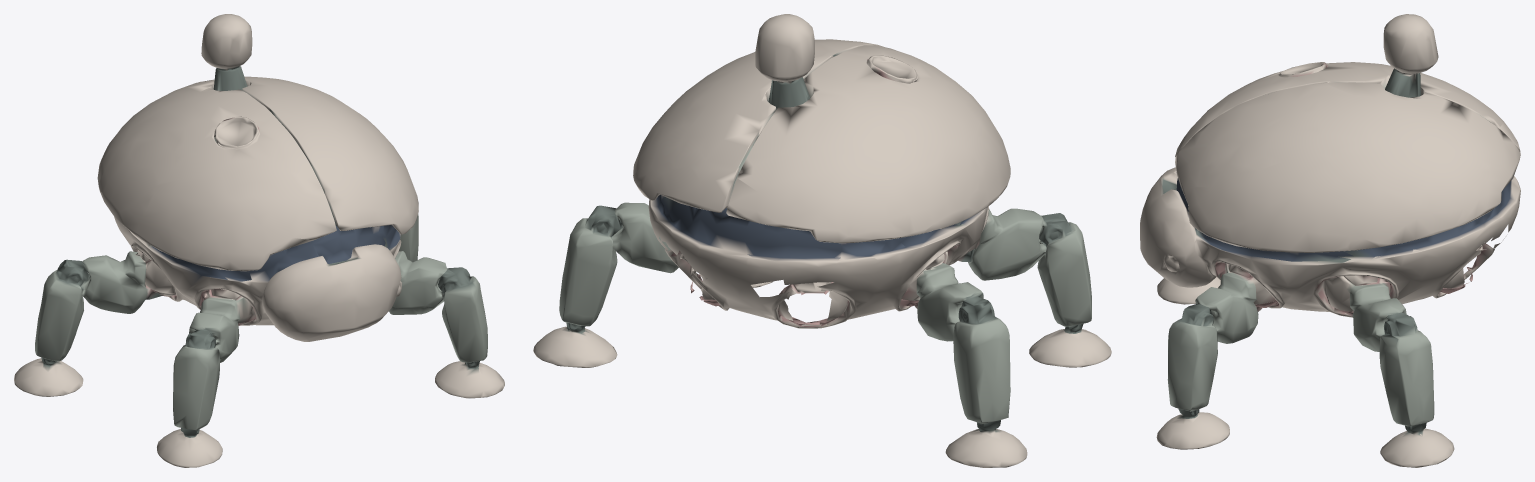
File: body.glb
3 views of the same model, side by side, from view 1: azimuth 30°, elevation 25°; view 2: azimuth 150°, elevation 25°; view 3: azimuth 270°, elevation 25° (orthographic). The views are drawn at different scales.
Parts seen in each view (by area): view 1: crawler; view 2: crawler; view 3: crawler.
Boxes of the visible parts, x1,y1,x2,y2 form: crawler: [14, 14, 504, 467]; crawler: [533, 14, 1111, 467]; crawler: [1140, 14, 1520, 467].
Bounding box in the file's own units: 0.8659 × 0.6592 × 0.6549.
